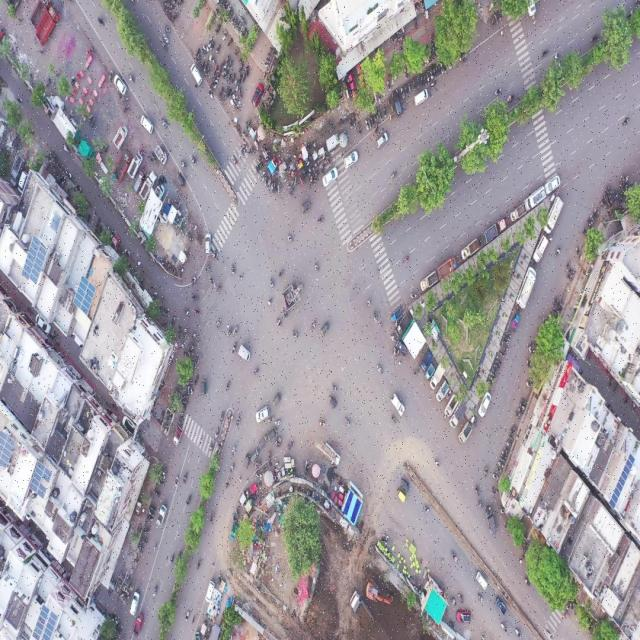3W: (174, 169, 187, 188), (299, 197, 311, 215), (321, 319, 330, 338), (401, 476, 412, 491), (327, 393, 337, 409), (258, 434, 268, 450), (200, 376, 207, 398), (242, 452, 250, 470), (396, 488, 406, 502), (272, 393, 282, 406), (251, 448, 259, 463), (268, 428, 277, 440)
Cars: (534, 235, 550, 266), (322, 168, 339, 192), (392, 392, 406, 417), (478, 392, 491, 418), (189, 63, 202, 88), (393, 86, 402, 122), (545, 174, 561, 194), (474, 569, 488, 591), (413, 89, 429, 108), (138, 115, 154, 134), (251, 81, 264, 104), (454, 609, 473, 624), (344, 150, 358, 170), (112, 74, 126, 94), (130, 588, 139, 617), (376, 130, 388, 150), (255, 406, 270, 421), (205, 228, 211, 256)
LCV: (514, 269, 538, 308), (544, 195, 564, 235), (523, 185, 545, 212), (484, 504, 499, 537), (438, 257, 457, 281), (460, 238, 478, 261), (140, 174, 155, 201), (420, 270, 438, 292), (113, 124, 128, 149), (431, 363, 444, 391), (128, 154, 143, 178), (444, 393, 458, 418), (324, 444, 341, 464), (133, 612, 146, 637), (436, 381, 450, 404), (452, 403, 466, 426), (324, 132, 340, 152), (156, 502, 168, 528), (419, 351, 433, 373), (459, 421, 472, 444), (510, 203, 526, 221), (495, 597, 508, 619), (237, 343, 252, 362), (154, 144, 168, 164), (172, 426, 184, 449), (397, 313, 409, 335), (390, 306, 402, 324), (510, 313, 521, 332), (396, 338, 407, 356), (424, 364, 434, 383)
M2W: (315, 212, 327, 230), (342, 413, 353, 432), (291, 323, 300, 346), (312, 257, 321, 279), (400, 252, 411, 269), (283, 231, 297, 244), (266, 272, 275, 292), (619, 115, 631, 130), (512, 624, 523, 640), (173, 470, 181, 490), (95, 14, 105, 30), (185, 487, 192, 509), (309, 319, 318, 336), (370, 306, 377, 326), (422, 501, 430, 518), (451, 548, 459, 565), (208, 512, 217, 527), (389, 170, 398, 185), (540, 47, 550, 60), (230, 441, 238, 457), (224, 381, 233, 395), (590, 31, 599, 45), (151, 584, 160, 598), (264, 296, 276, 306), (522, 575, 532, 587), (215, 315, 222, 332), (208, 436, 214, 455), (482, 465, 489, 481), (554, 245, 562, 259), (69, 75, 76, 91), (493, 86, 503, 97), (193, 305, 202, 317), (433, 458, 442, 470), (388, 414, 397, 426), (227, 36, 236, 48), (195, 558, 202, 573), (168, 552, 175, 567), (376, 361, 383, 376), (230, 263, 237, 278), (473, 483, 480, 498), (231, 341, 238, 356), (232, 321, 240, 334), (449, 595, 457, 608), (552, 50, 560, 63), (276, 314, 282, 331), (377, 260, 382, 280), (505, 93, 515, 103), (277, 269, 286, 280), (181, 472, 188, 486), (215, 280, 222, 294), (192, 292, 199, 306), (457, 590, 464, 604), (229, 459, 236, 473), (218, 409, 225, 423), (160, 117, 167, 131), (185, 608, 191, 624), (208, 86, 214, 102), (500, 621, 507, 634), (546, 627, 553, 640), (224, 477, 231, 490), (163, 31, 170, 44), (233, 46, 240, 59), (252, 366, 260, 377), (331, 383, 339, 394), (208, 54, 216, 65), (476, 590, 483, 602), (226, 325, 232, 339), (234, 414, 240, 428), (213, 428, 220, 440), (164, 22, 171, 34), (365, 296, 372, 308), (178, 412, 185, 424), (525, 356, 532, 368), (551, 295, 557, 309), (556, 298, 562, 312), (179, 158, 187, 168), (160, 41, 168, 51), (266, 178, 271, 194), (400, 84, 405, 100), (478, 233, 483, 249), (193, 374, 199, 387), (299, 174, 305, 187), (356, 125, 362, 138), (205, 263, 212, 274), (190, 155, 197, 166), (127, 72, 134, 83), (231, 155, 238, 166), (410, 290, 417, 301), (449, 618, 456, 629), (412, 368, 419, 379), (191, 274, 197, 286), (222, 28, 228, 40), (238, 62, 244, 74), (231, 73, 237, 85), (212, 65, 218, 77), (194, 48, 200, 60), (152, 490, 161, 498), (498, 350, 506, 359), (575, 244, 581, 256), (261, 168, 266, 182), (287, 179, 294, 189), (321, 160, 326, 174), (382, 104, 387, 118), (429, 80, 436, 90), (565, 260, 572, 270), (594, 205, 599, 219), (490, 15, 494, 32), (274, 419, 282, 427), (202, 44, 210, 52), (501, 344, 509, 352), (476, 500, 483, 509), (267, 415, 274, 424), (122, 104, 129, 113), (107, 70, 112, 82), (245, 66, 250, 78), (226, 54, 231, 66), (226, 72, 231, 84), (138, 545, 144, 555), (302, 168, 307, 180), (390, 332, 396, 342), (566, 273, 572, 283), (590, 212, 595, 224), (494, 13, 498, 28), (216, 40, 220, 54), (142, 530, 150, 537), (241, 130, 248, 138), (423, 74, 427, 88), (502, 339, 510, 346), (568, 267, 576, 274), (210, 40, 215, 51), (586, 218, 591, 229), (139, 538, 148, 544), (288, 187, 294, 196), (526, 380, 532, 389), (508, 433, 514, 442), (582, 228, 588, 237), (293, 174, 297, 187), (370, 114, 374, 127), (412, 77, 416, 90), (416, 75, 420, 88), (440, 61, 444, 74), (498, 9, 502, 22), (504, 441, 514, 446), (515, 307, 522, 314), (509, 426, 516, 433), (551, 308, 558, 315), (124, 94, 130, 102), (216, 23, 220, 35), (238, 73, 242, 85), (234, 80, 238, 92), (238, 88, 242, 100), (228, 61, 232, 73), (148, 510, 154, 518), (264, 175, 268, 187), (276, 183, 280, 195), (315, 170, 319, 182), (348, 118, 352, 130), (404, 83, 408, 95), (494, 359, 502, 365), (514, 413, 520, 421), (213, 80, 218, 89), (325, 156, 330, 165), (352, 114, 356, 125), (437, 64, 441, 75), (504, 335, 511, 341), (493, 364, 499, 371), (492, 473, 498, 480), (495, 468, 502, 474), (499, 457, 505, 464), (256, 473, 263, 479), (90, 119, 94, 129), (221, 59, 225, 69), (378, 110, 382, 120), (407, 82, 411, 92), (220, 84, 223, 97), (208, 37, 212, 46), (387, 80, 390, 92), (505, 331, 511, 337), (519, 404, 525, 410), (497, 462, 503, 468), (89, 113, 92, 124), (375, 107, 378, 118), (242, 72, 245, 82), (430, 70, 433, 80), (504, 447, 509, 453), (274, 182, 276, 195), (388, 97, 390, 110), (368, 119, 370, 132), (376, 120, 378, 132), (421, 74, 423, 86), (434, 68, 436, 78)
Truck: (348, 590, 376, 635), (34, 7, 58, 45), (114, 148, 130, 182)
